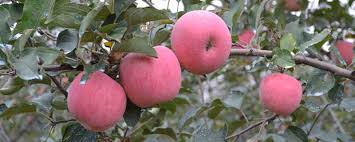Apple: (172, 9, 232, 74), (67, 69, 125, 129), (123, 50, 181, 108), (258, 67, 304, 115), (326, 31, 354, 67), (235, 25, 261, 51)
